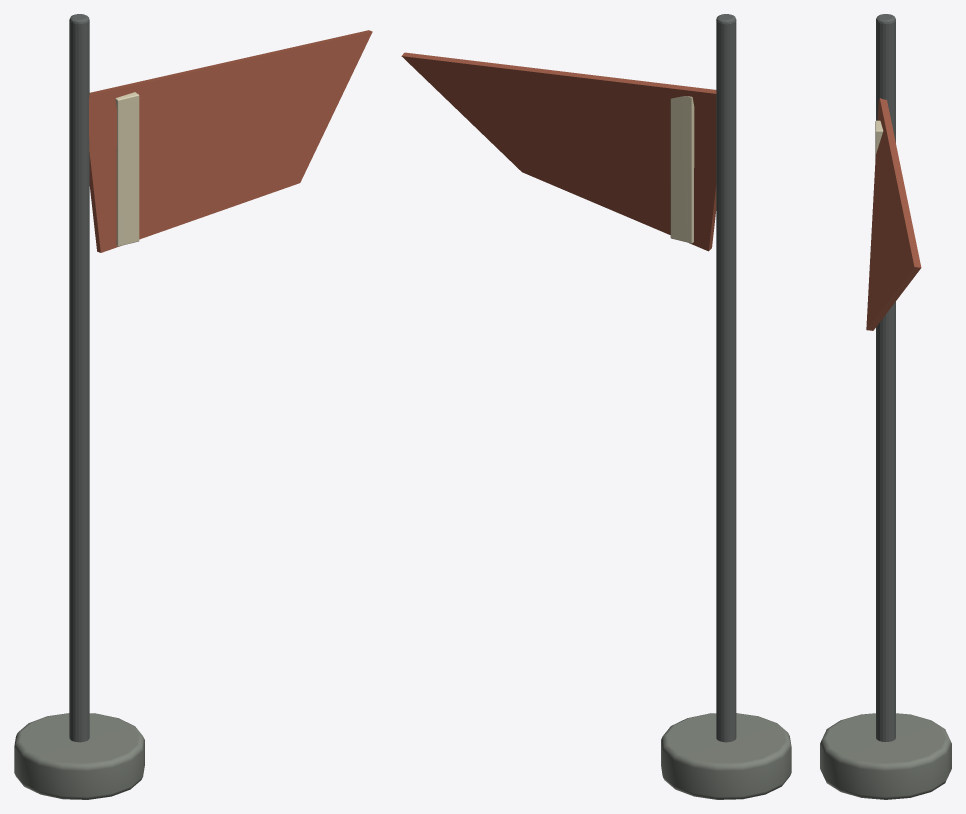
The model's file is STK-C02.fbx.
The picture shows the model from 3 angles, left to right: view 1: azimuth 30°, elevation 25°; view 2: azimuth 150°, elevation 25°; view 3: azimuth 270°, elevation 25°; orthographic projection.
Visible parts, largest first — view 1: STK-C02_Oxide, STK-C02_Steel, STK-C02_Edge, STK-C02_Marking; view 2: STK-C02_Oxide, STK-C02_Steel, STK-C02_Edge, STK-C02_Marking; view 3: STK-C02_Steel, STK-C02_Edge, STK-C02_Oxide.
Boxes of the visible parts, x1,y1,x2,y2 form: STK-C02_Oxide: (89,30,372,252); STK-C02_Steel: (69,14,89,742); STK-C02_Edge: (14,713,144,799); STK-C02_Marking: (115,92,139,246); STK-C02_Oxide: (401,52,716,251); STK-C02_Steel: (716,14,736,742); STK-C02_Edge: (661,713,791,799); STK-C02_Marking: (670,96,694,243); STK-C02_Steel: (876,14,895,741); STK-C02_Edge: (820,713,951,799); STK-C02_Oxide: (866,98,921,330).
Size of the model in its own units: 83.05 by 165 by 26.
